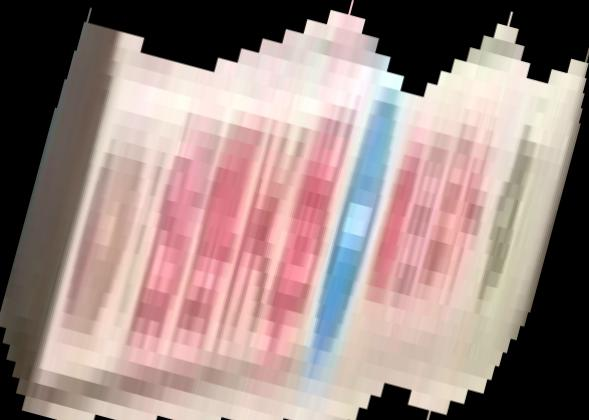flat: (1, 1, 589, 420)
